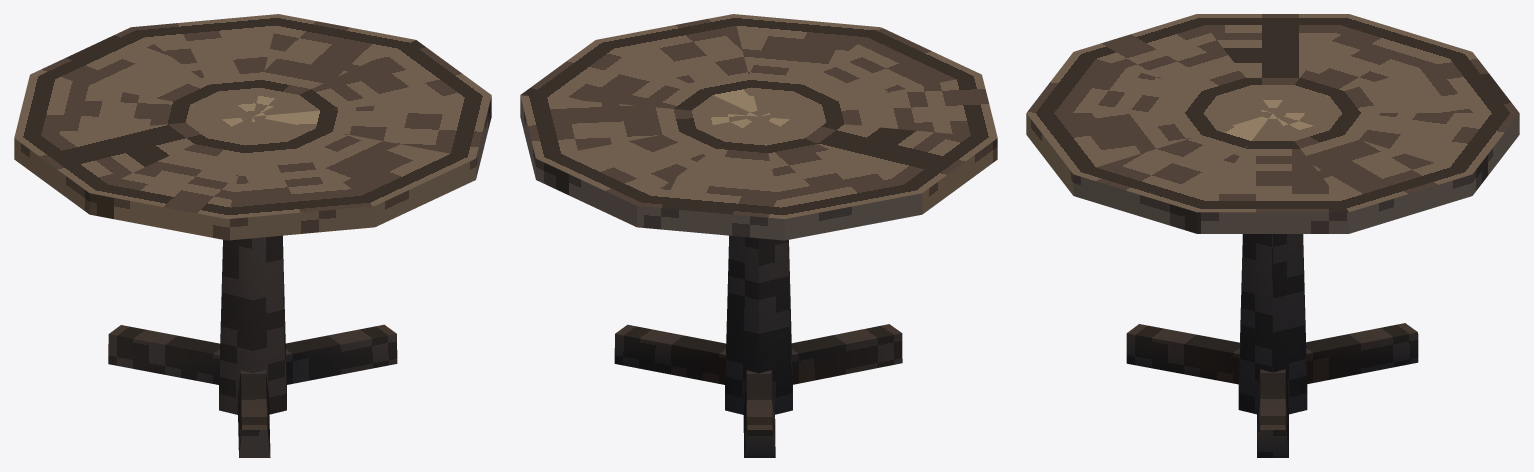
Rendered from mprop.table__round.glb.
3 renders of one model, left to right at view 1: azimuth 30°, elevation 25°; view 2: azimuth 150°, elevation 25°; view 3: azimuth 270°, elevation 25°, orthographic.
Parts seen in each view (by area): view 1: kit_top, kit_legs; view 2: kit_top, kit_legs; view 3: kit_top, kit_legs.
Boxes of the visible parts, x1=… form: kit_top: x1=14, y1=14, x2=491, y2=240; kit_legs: x1=108, y1=235, x2=397, y2=457; kit_top: x1=520, y1=14, x2=997, y2=240; kit_legs: x1=614, y1=235, x2=902, y2=457; kit_top: x1=1026, y1=14, x2=1519, y2=233; kit_legs: x1=1126, y1=234, x2=1418, y2=457.
Bounding box in the file's own units: 1.18 × 0.8 × 1.24.
2 materials, 2 textured.
